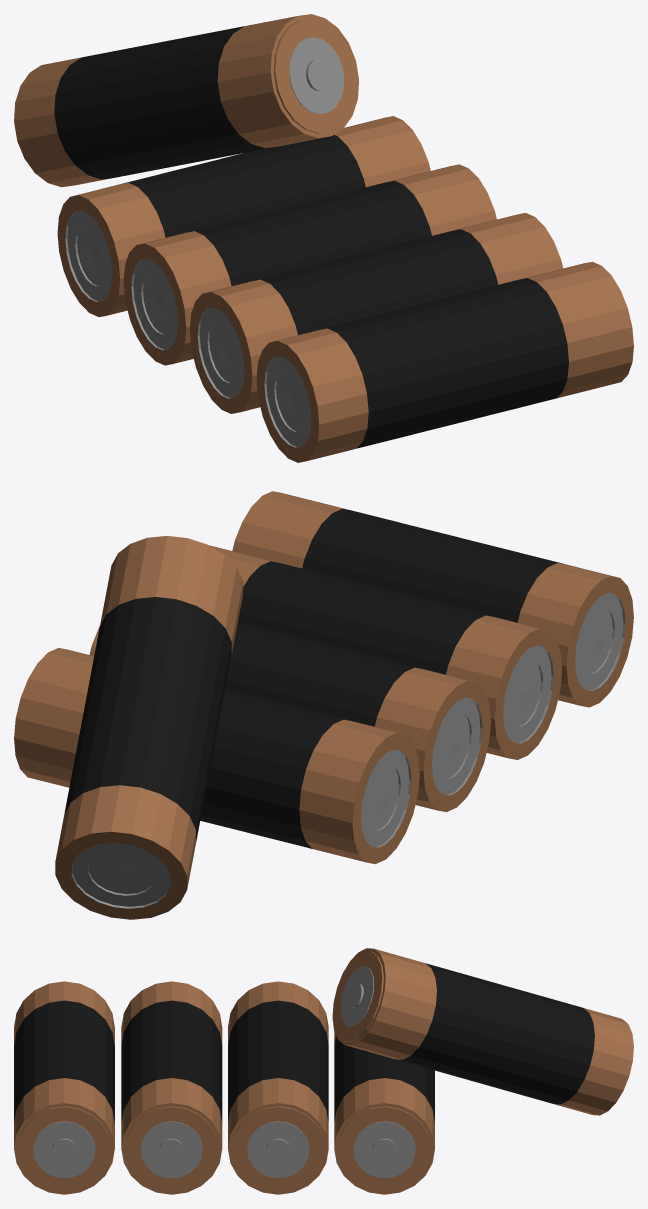
Rendered from battery.fbx.
The picture shows the model from 3 angles, top to bottom: view 1: azimuth 30°, elevation 25°; view 2: azimuth 150°, elevation 25°; view 3: azimuth 270°, elevation 25°; orthographic projection. The views are drawn at different scales.
Visible parts, largest first — view 1: pCylinder1, pCylinder5, pCylinder2, pCylinder3, pCylinder4; view 2: pCylinder5, pCylinder4, pCylinder1, pCylinder2, pCylinder3; view 3: pCylinder5, pCylinder2, pCylinder3, pCylinder1, pCylinder4.
Part boxes in pixels (x1=…): pCylinder1: x1=256, y1=261, x2=633, y2=462; pCylinder5: x1=14, y1=14, x2=358, y2=187; pCylinder2: x1=189, y1=213, x2=563, y2=413; pCylinder3: x1=123, y1=164, x2=496, y2=365; pCylinder4: x1=57, y1=116, x2=430, y2=316; pCylinder5: x1=55, y1=536, x2=243, y2=919; pCylinder4: x1=14, y1=648, x2=419, y2=864; pCylinder1: x1=232, y1=491, x2=633, y2=707; pCylinder2: x1=209, y1=545, x2=562, y2=759; pCylinder3: x1=89, y1=622, x2=490, y2=812; pCylinder5: x1=332, y1=948, x2=633, y2=1115; pCylinder2: x1=121, y1=981, x2=222, y2=1194; pCylinder3: x1=228, y1=981, x2=328, y2=1194; pCylinder1: x1=14, y1=981, x2=114, y2=1194; pCylinder4: x1=334, y1=1031, x2=434, y2=1194.
Bounding box in the file's own units: 1.22 × 0.9026 × 2.53.
